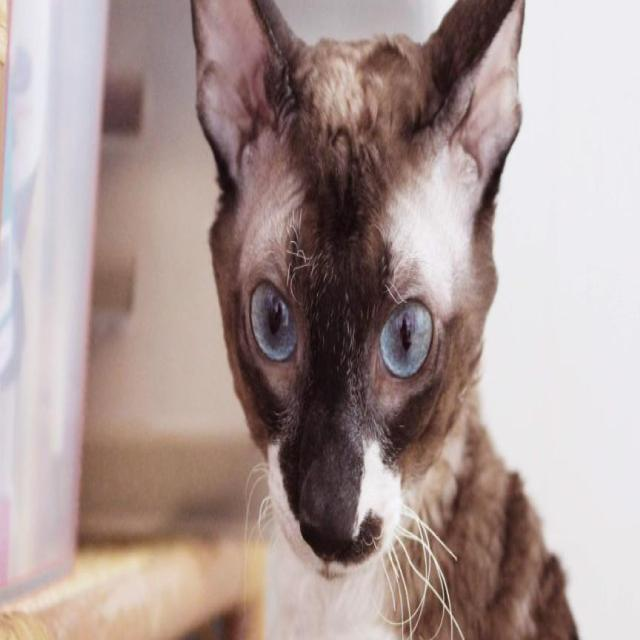Cornish Rex: (181, 0, 598, 640)
